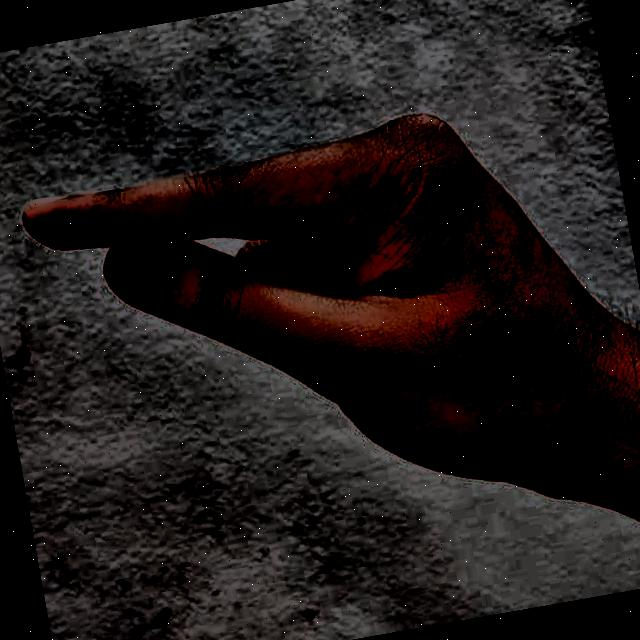Tha: (0, 35, 640, 640)
